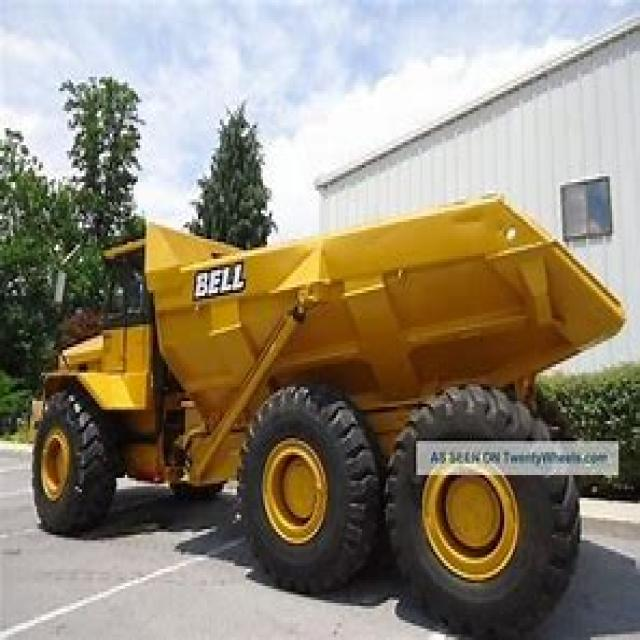dump_truck: (17, 208, 621, 623)
